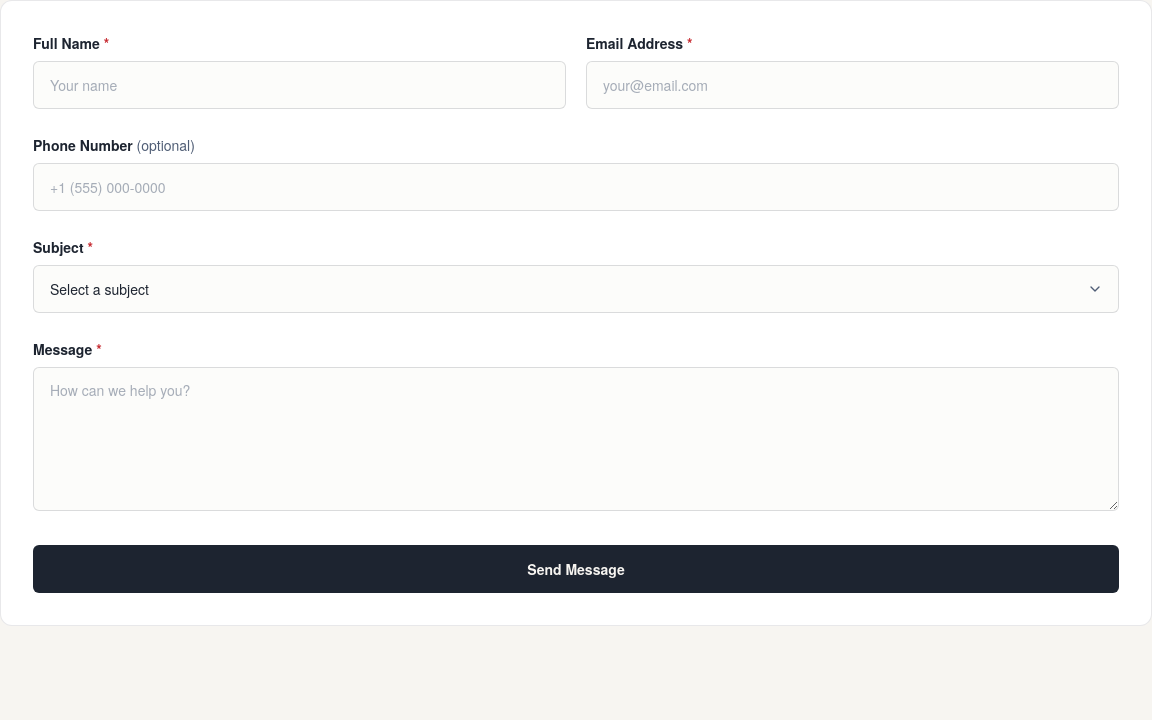
it: ContactForm › shows the exact required error copy and preserves form values on failure
Type "Sabina Koirala" into the field labelled "Full Name *" at (300, 85), box [33, 61, 566, 109]
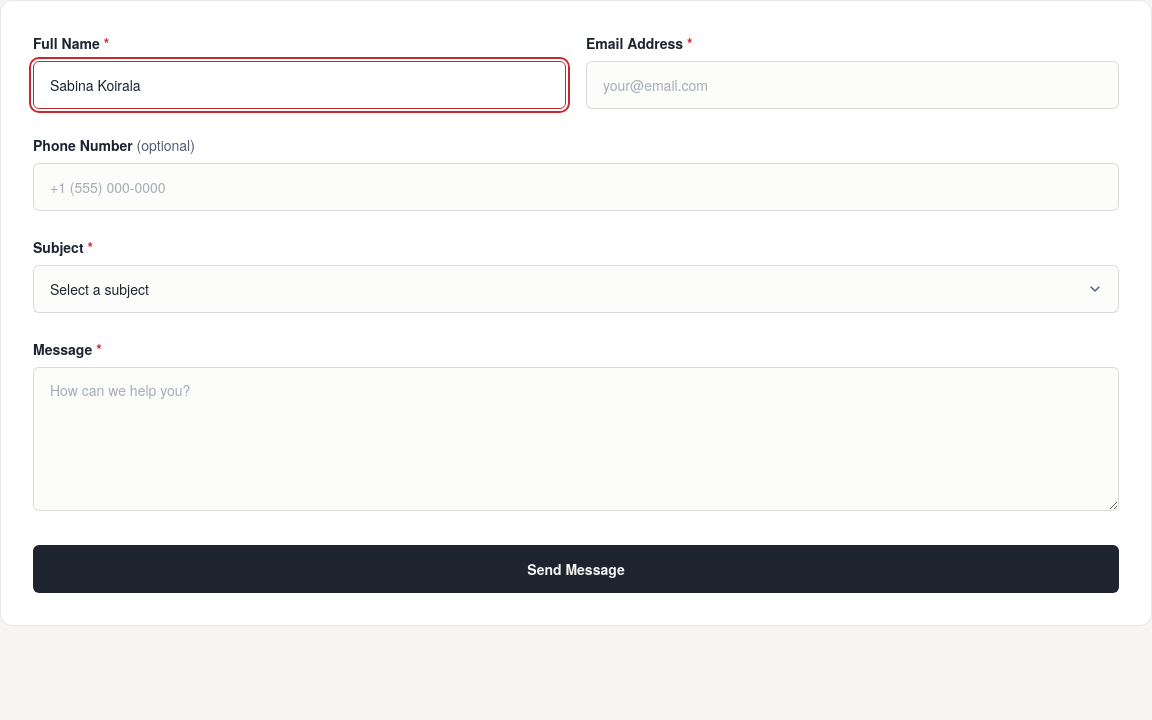
Type "sabina@example.com" into the field labelled "Email Address *" at (852, 85), box [586, 61, 1119, 109]
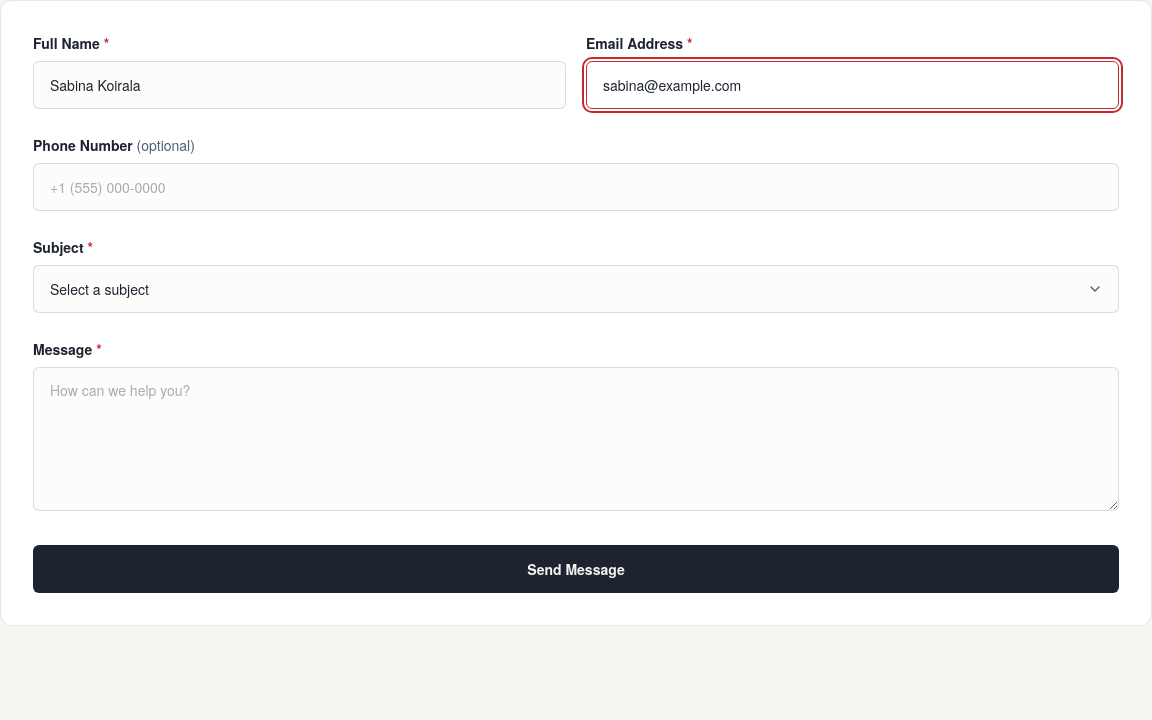
Select "General Inquiry" in the dropdown labelled "Subject *" at (576, 289), box [33, 265, 1119, 313]
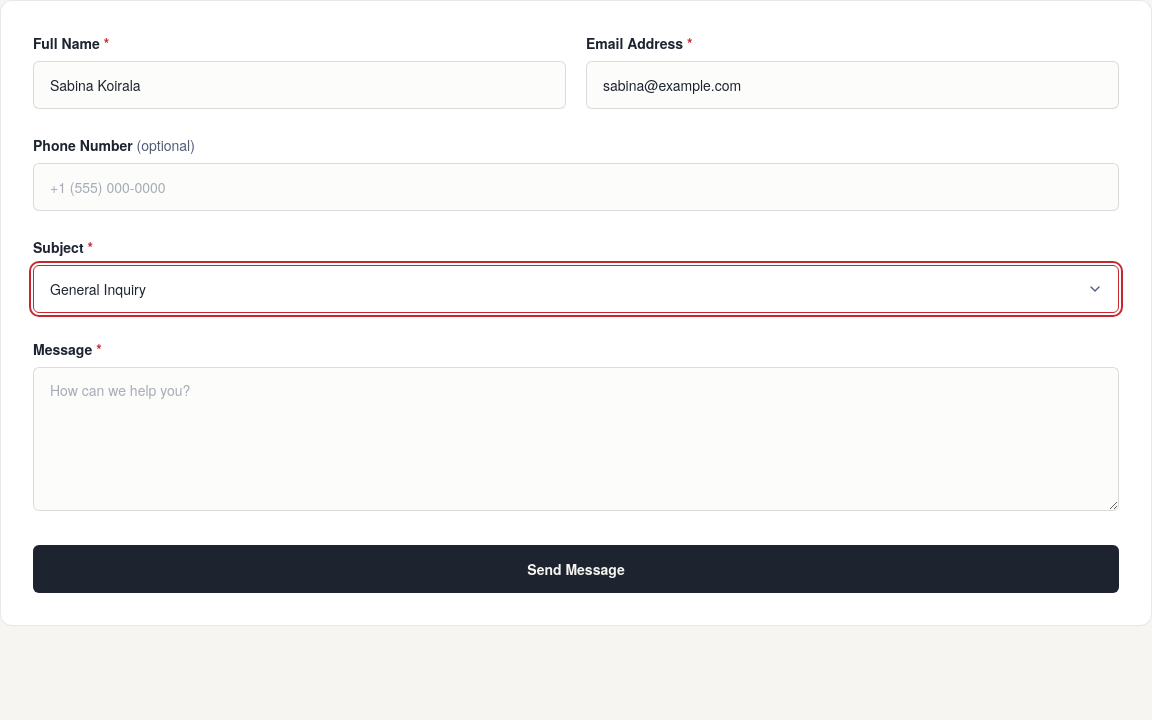
Type "Hello, I would love to get involved with MNS." into the text box labelled "Message *" at (576, 439), box [33, 367, 1119, 511]
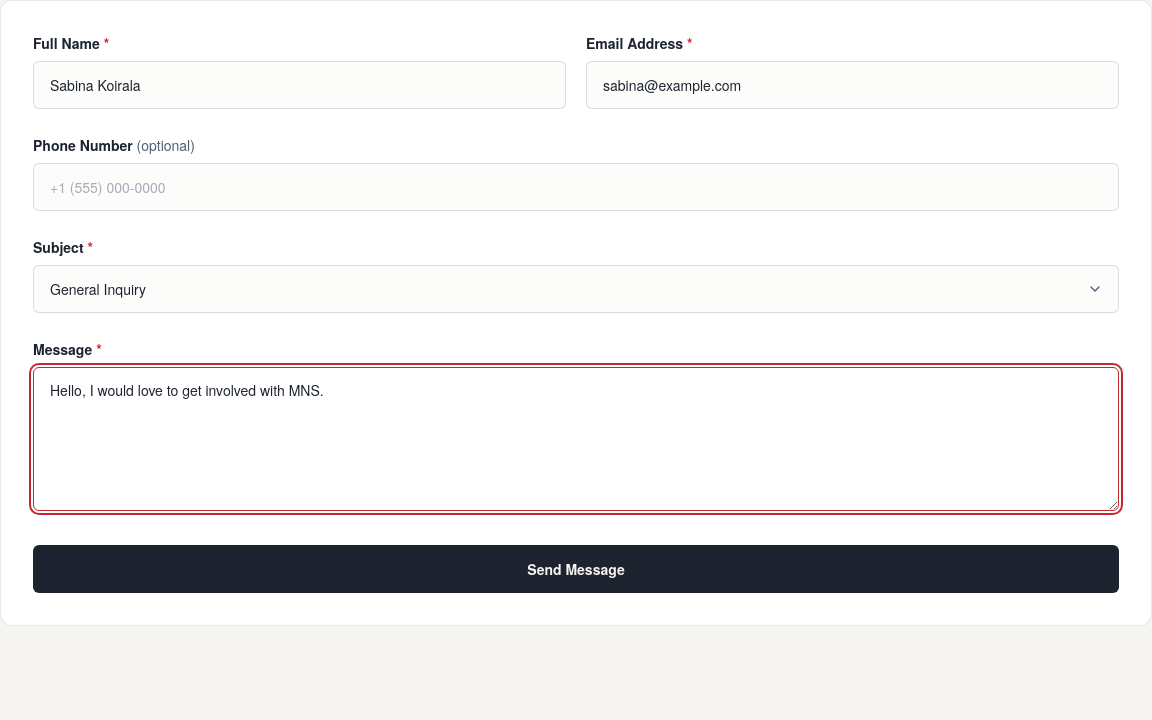
Click the button "Send Message" at (576, 569), box [33, 545, 1119, 593]
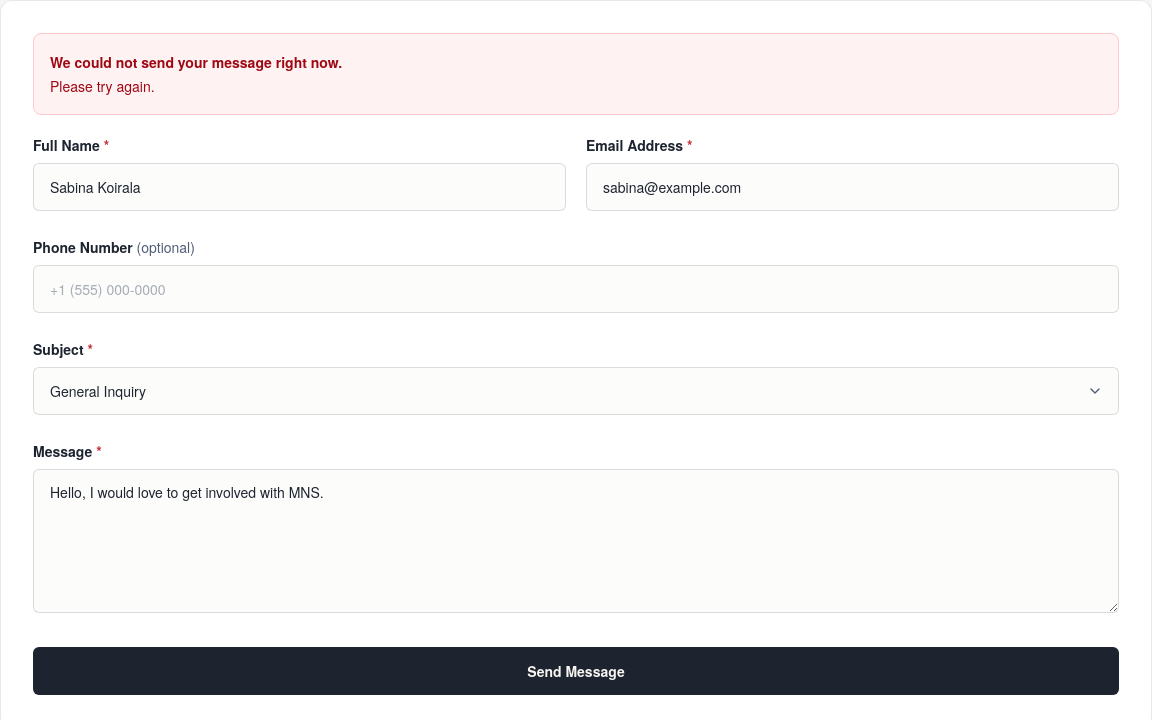
Result: the message shows "We could not send your message right now" at [50, 52, 342, 72]
Result: the message shows "Please try again" at [50, 76, 155, 96]
